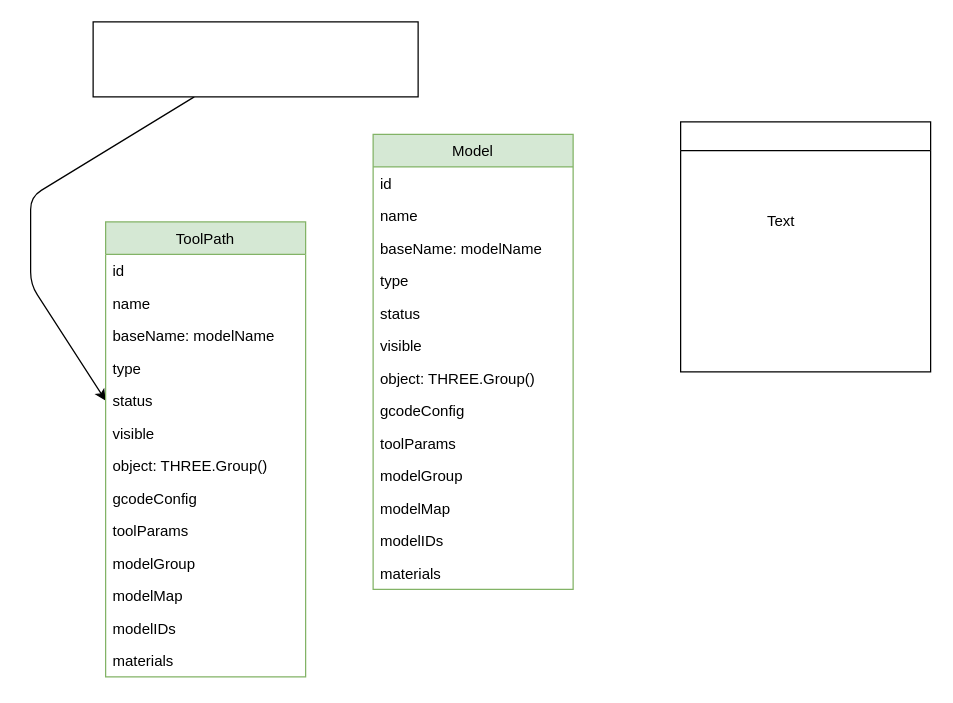
Some shapes in this 953 by 703 pixel diagram are drawn without their labels. The box of each missing label's shape, as (x1, y1, x2, y2) in pixels:
CreateToolpath: (679, 121, 931, 372)
Status idle, running, success, warning, failed: (92, 21, 418, 97)
